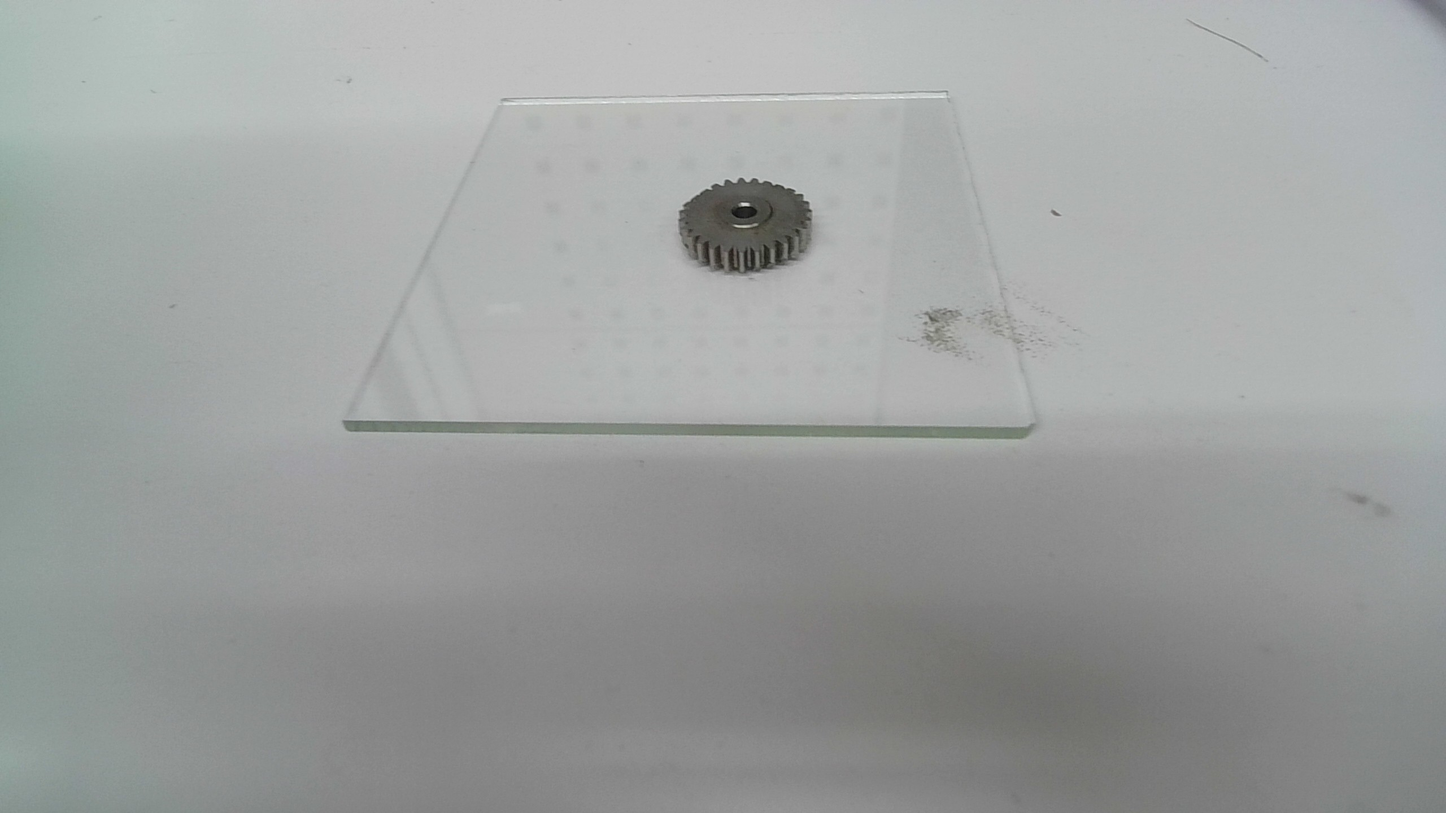gear: (676, 176, 816, 274)
